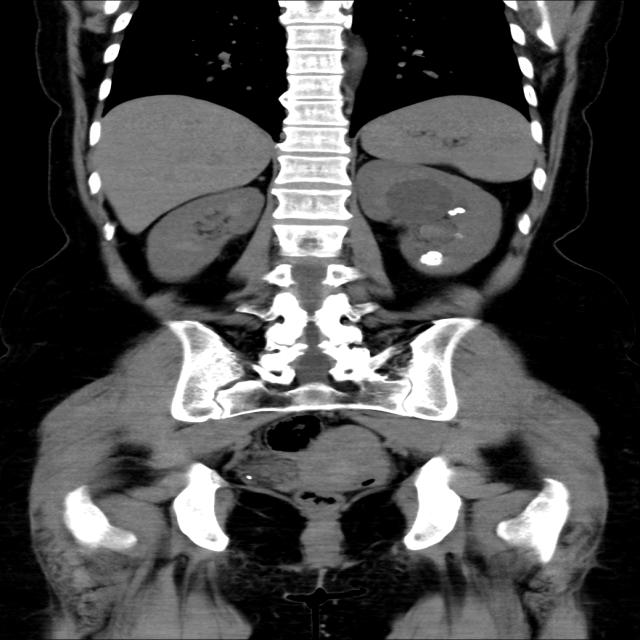kidneystone: (420, 251, 442, 266), (448, 208, 466, 216)
